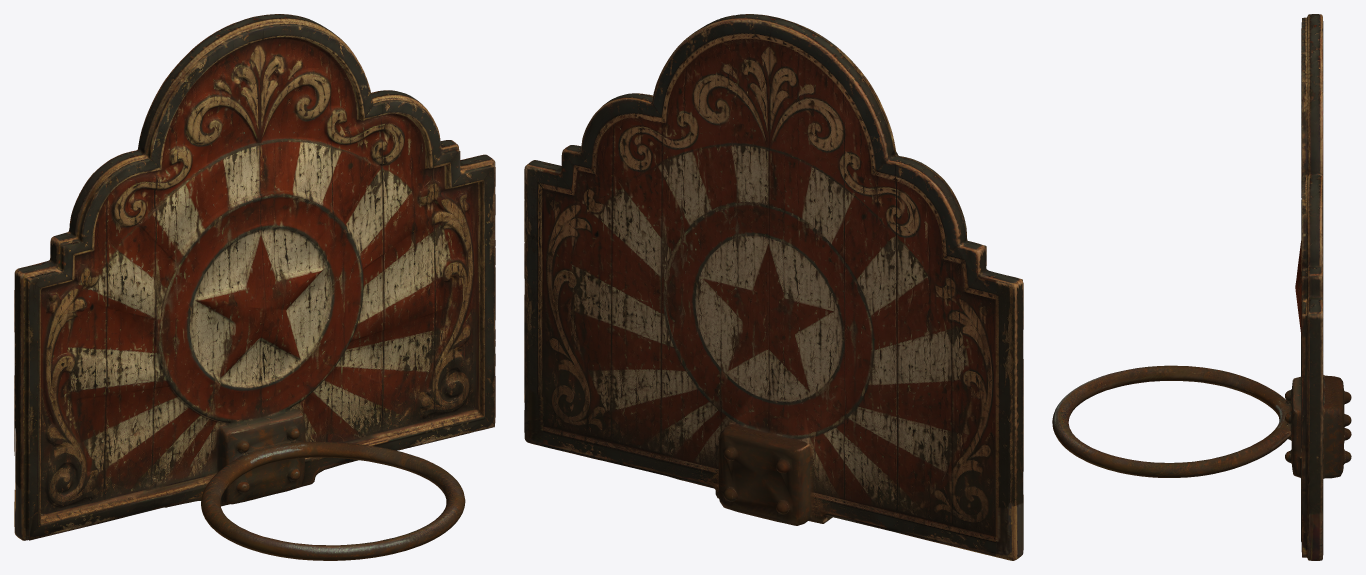
The model's file is Meshy_AI_Rusty_Starburst_Shiel_0511054110_texture.fbx.
3 views of the same model, side by side, from view 1: azimuth 30°, elevation 25°; view 2: azimuth 150°, elevation 25°; view 3: azimuth 270°, elevation 25° (orthographic). The views are drawn at different scales.
Parts seen in each view (by area): view 1: Mesh_0; view 2: Mesh_0; view 3: Mesh_0.
Part boxes in pixels (box(x1,y1,x2,y2)): Mesh_0: box(14, 14, 495, 560); Mesh_0: box(524, 14, 1023, 560); Mesh_0: box(1052, 14, 1351, 560).
Size of the model in its own units: 191 by 182 by 112.
1 material, 1 textured.
